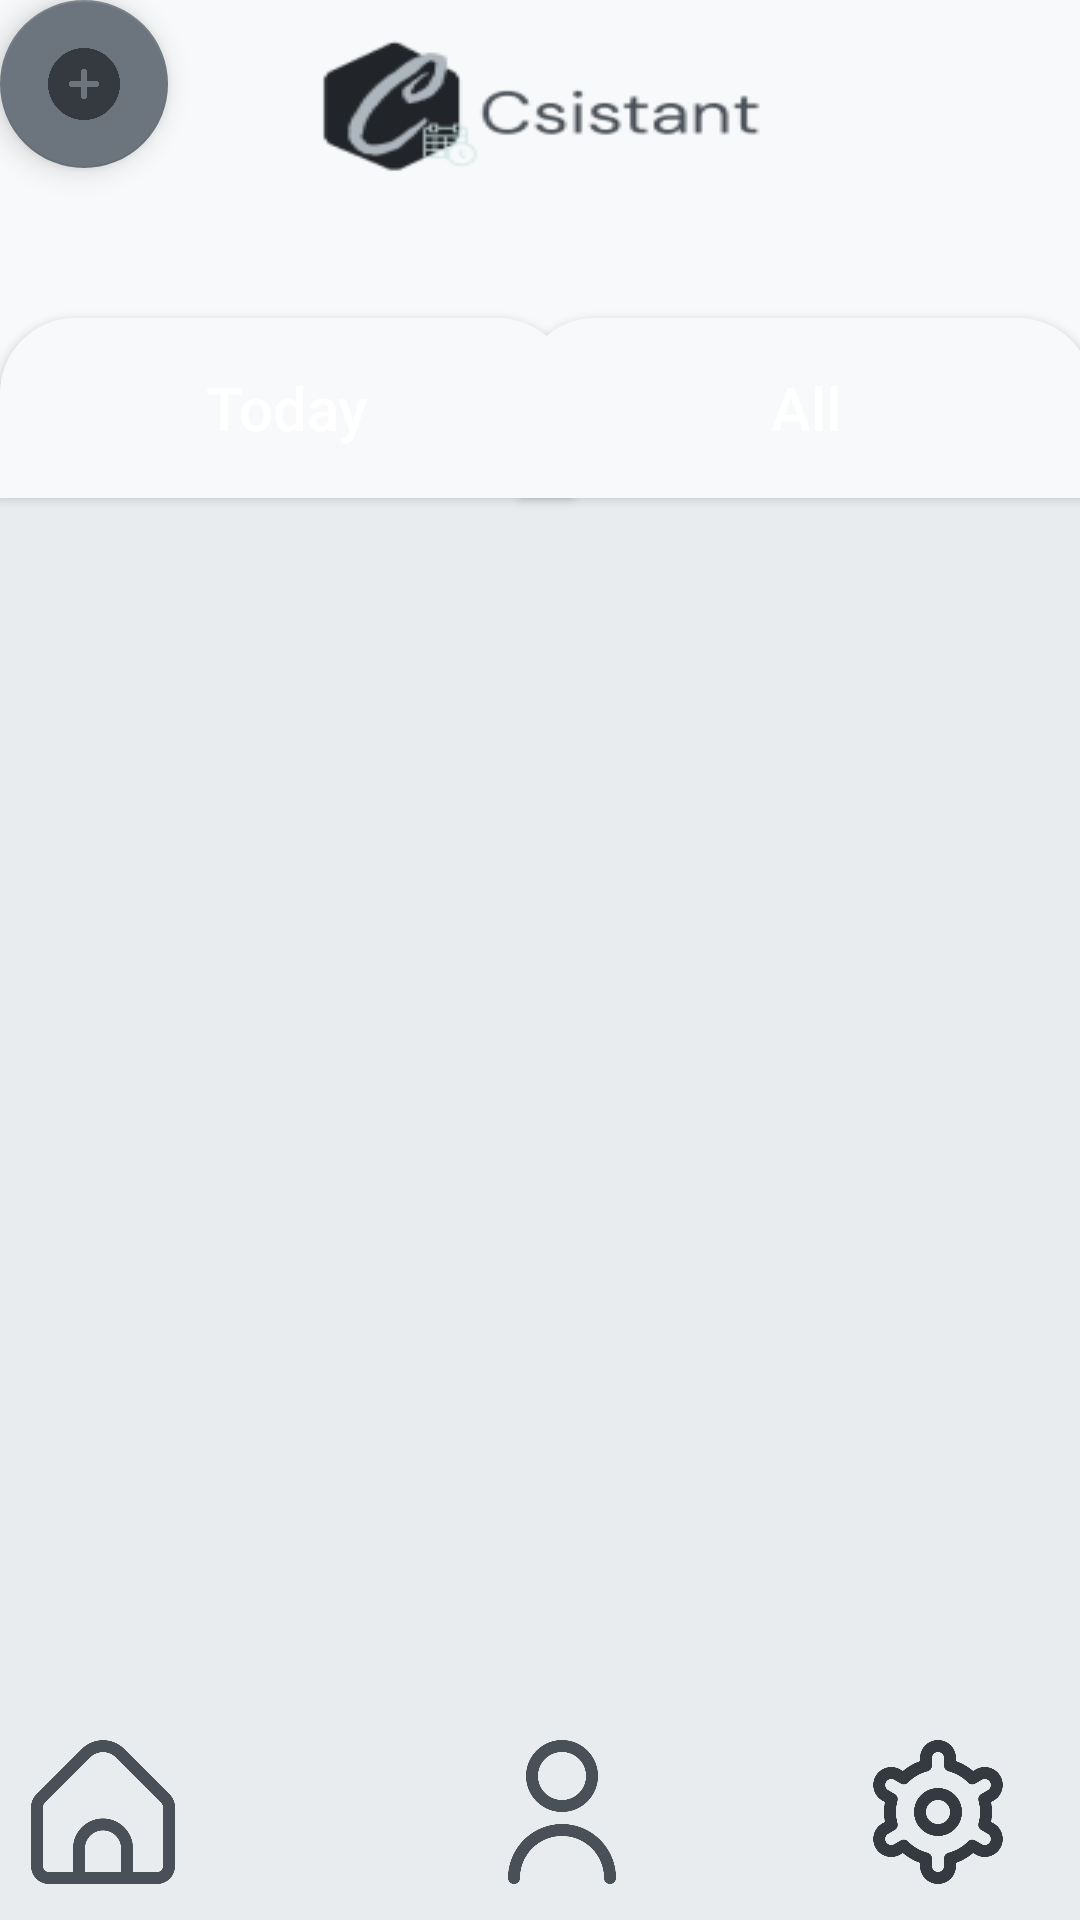

Where icons sit on this 1080px×1920px app screen, as BBox(x1, y1, x2, y2):
add: BBox(0, 0, 168, 168)
home: BBox(31, 1740, 175, 1884)
settings: BBox(873, 1740, 1003, 1884)
user: BBox(508, 1740, 616, 1884)
